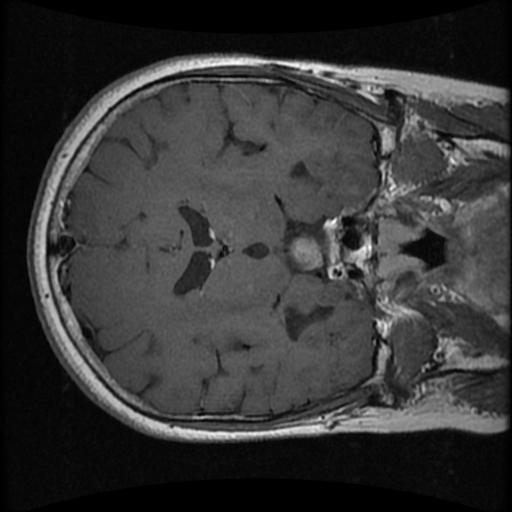pituitary tumour: (286, 235, 323, 272)
